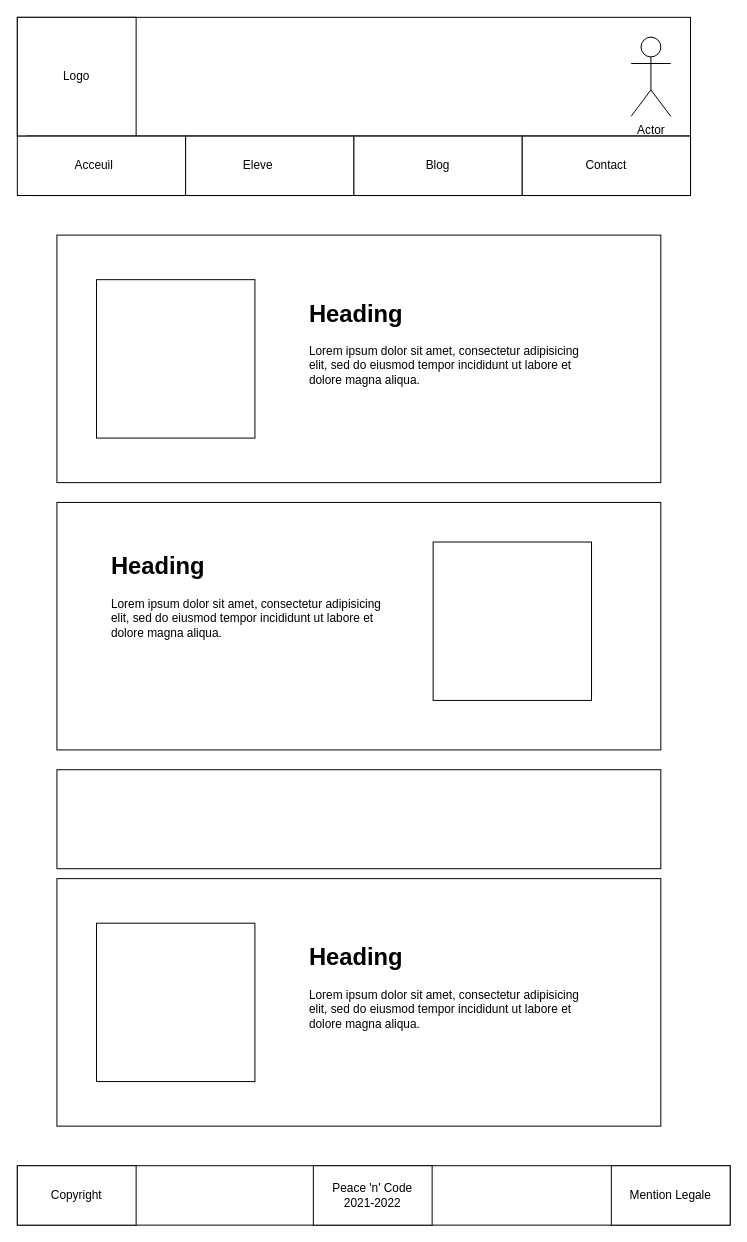
Image size: 747x1242. Some labels were removed from this diagram. The box of each missing label's shape, as (x1, y1, x2, y2) in pixels:
HTML /Logo: (56, 769, 661, 869)
P 'n' Code: (16, 16, 691, 136)
